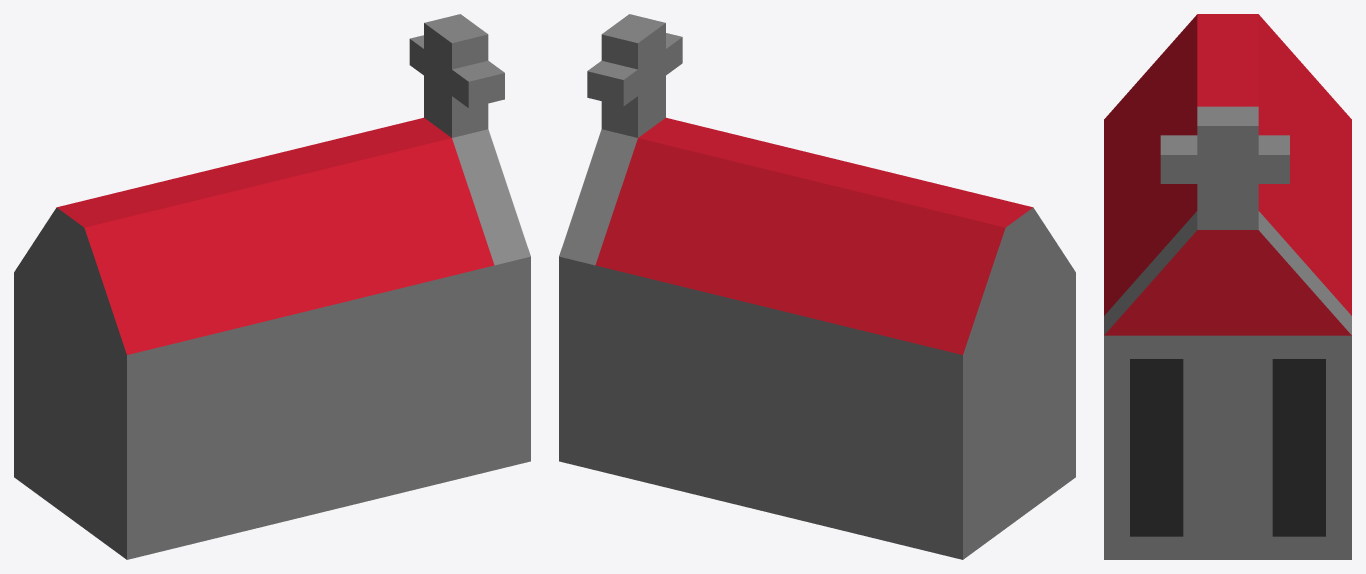
The picture shows the model from 3 angles, left to right: view 1: azimuth 30°, elevation 25°; view 2: azimuth 150°, elevation 25°; view 3: azimuth 270°, elevation 25°; orthographic projection. The views are drawn at different scales.
Visible parts, largest first — view 1: Cube; view 2: Cube; view 3: Cube.
Part boxes in pixels (<box>): Cube: <box>14,14,530,559</box>; Cube: <box>559,14,1075,559</box>; Cube: <box>1104,14,1351,559</box>.
Bounding box in the file's own units: 413 × 387 × 200.
